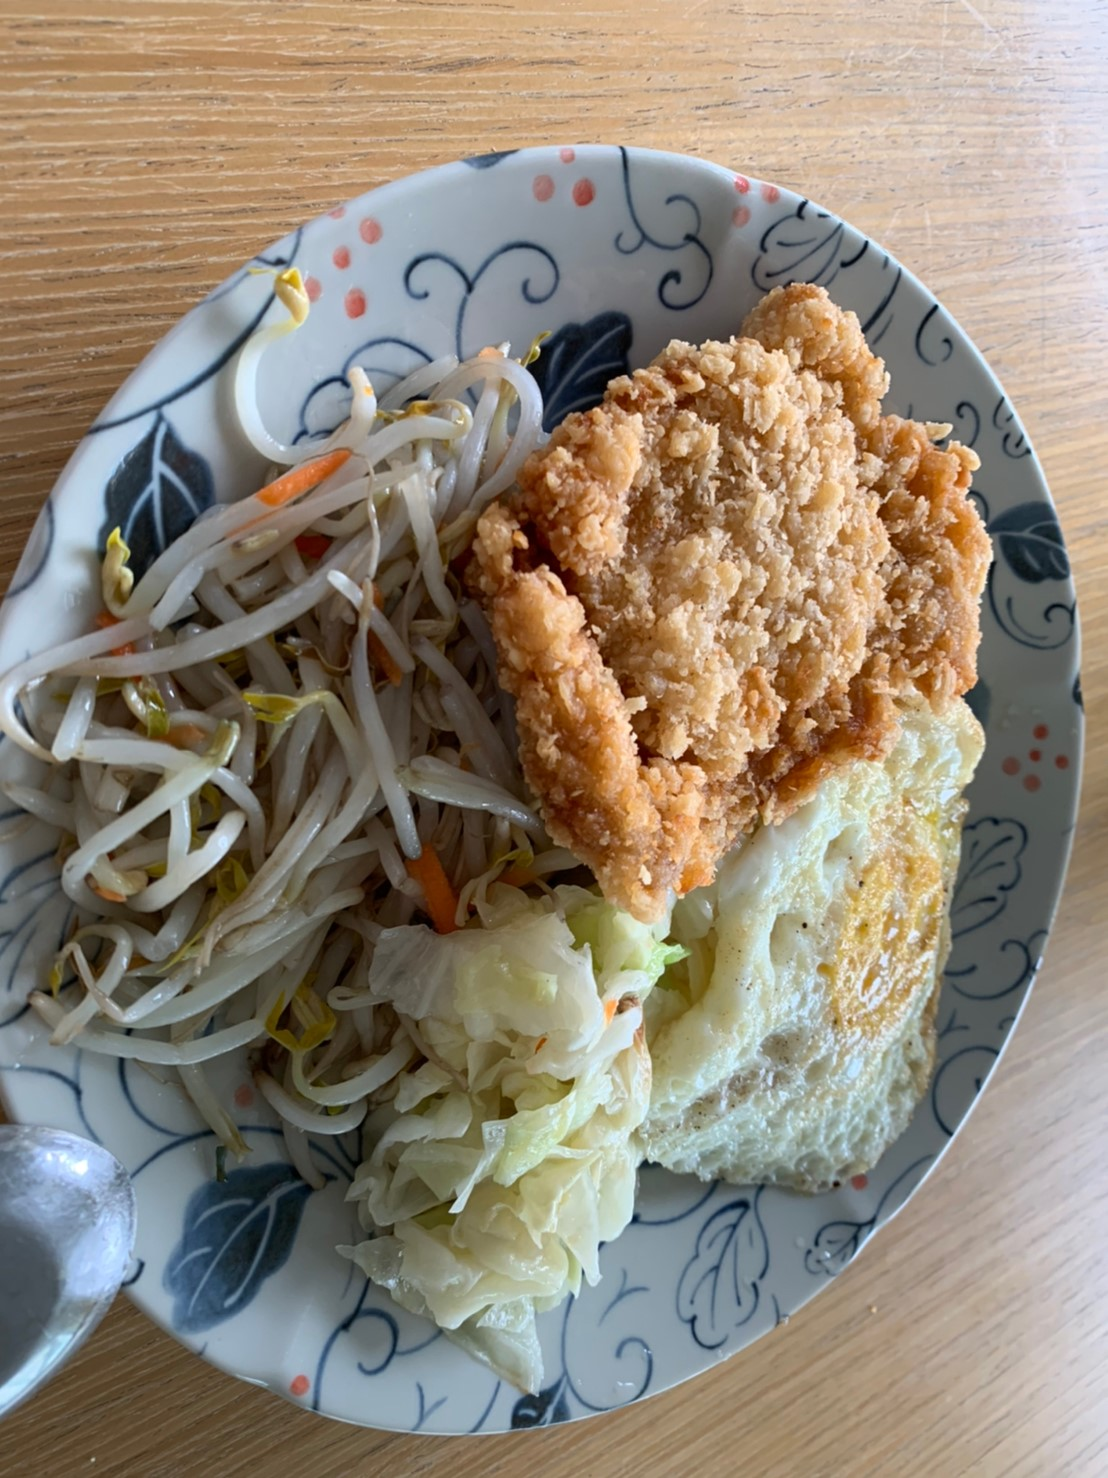chinese_cabbage: (345, 902, 665, 1327)
fried_chicken: (493, 308, 966, 868)
fried_eggs: (641, 697, 993, 1198)
mung_bean_sprouts: (24, 412, 462, 1033)
